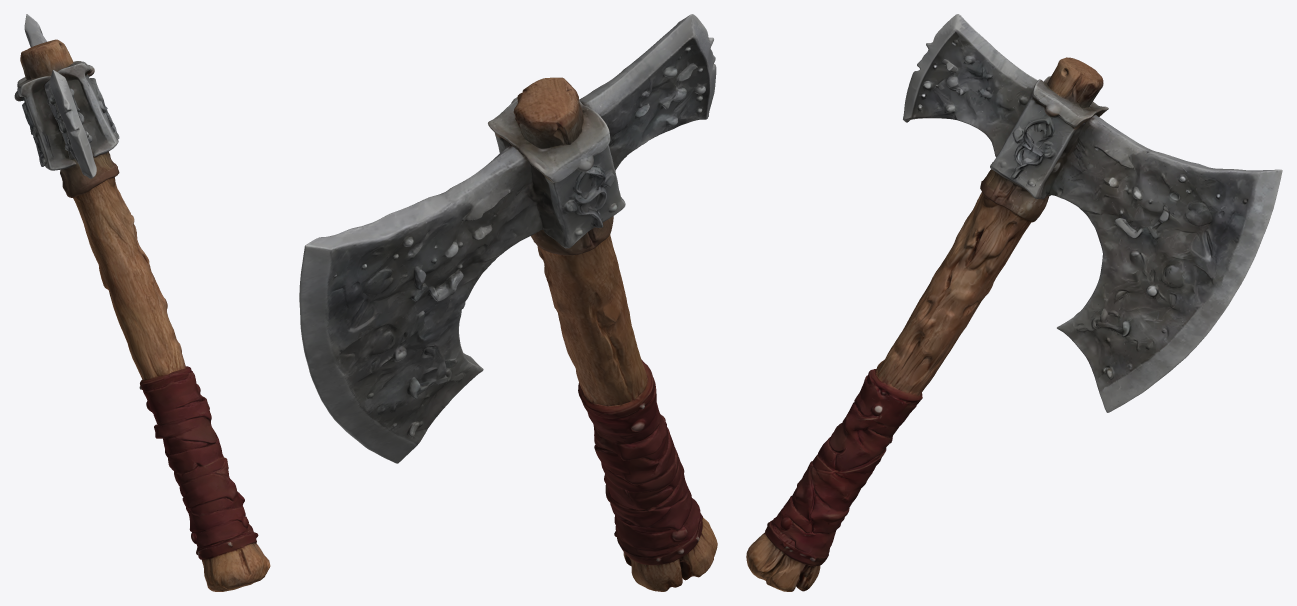
3 views of the same model, side by side, from view 1: azimuth 30°, elevation 25°; view 2: azimuth 150°, elevation 25°; view 3: azimuth 270°, elevation 25° (orthographic). The views are drawn at different scales.
Visible parts, largest first — view 1: tripo_node_02867a44-22d1-440f-b4f3-0048855c70a0; view 2: tripo_node_02867a44-22d1-440f-b4f3-0048855c70a0; view 3: tripo_node_02867a44-22d1-440f-b4f3-0048855c70a0.
Part boxes in pixels (<box>): tripo_node_02867a44-22d1-440f-b4f3-0048855c70a0: <box>14,14,270,591</box>; tripo_node_02867a44-22d1-440f-b4f3-0048855c70a0: <box>299,14,717,591</box>; tripo_node_02867a44-22d1-440f-b4f3-0048855c70a0: <box>746,14,1282,591</box>.
Size of the model in its own units: 0.3266 by 1 by 0.9303.
Materials: 1 (1 with a texture image).
